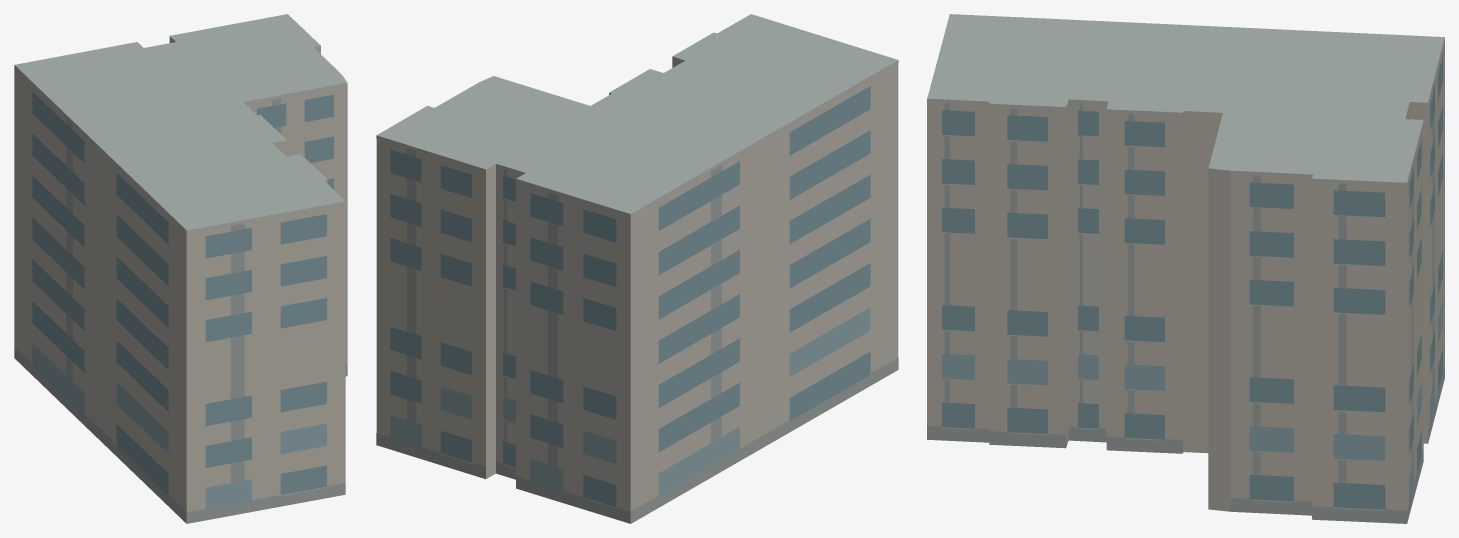
Rendered from survey-upis-32704167.glb.
The picture shows the model from 3 angles, left to right: view 1: azimuth 30°, elevation 25°; view 2: azimuth 150°, elevation 25°; view 3: azimuth 270°, elevation 25°; orthographic projection. The views are drawn at different scales.
Parts seen in each view (by area): view 1: survey-upis-32704167.tmp; view 2: survey-upis-32704167.tmp; view 3: survey-upis-32704167.tmp.
Part boxes in pixels (x1,y1,x2,y2): survey-upis-32704167.tmp: (14, 14, 347, 523); survey-upis-32704167.tmp: (376, 14, 898, 523); survey-upis-32704167.tmp: (927, 14, 1444, 523).
Size of the model in its own units: 23.89 by 22.5 by 30.96.
